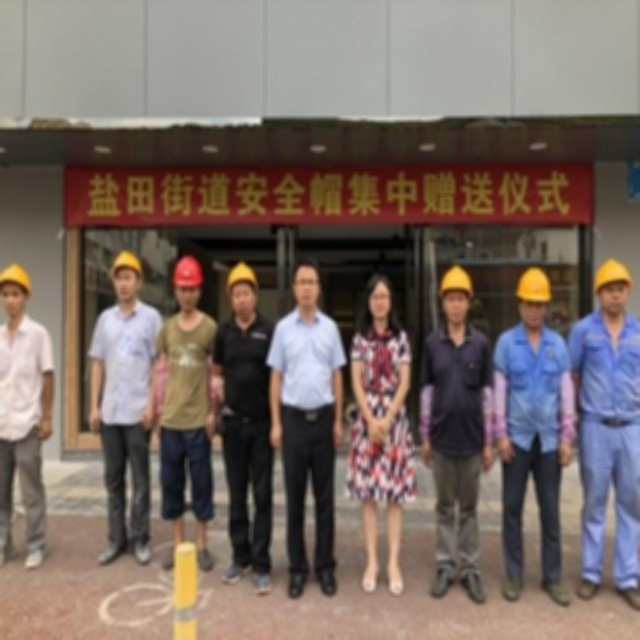Con_Casco: (438, 265, 475, 324)
Sin_Casco_Mascarrilla: (290, 260, 321, 312)
Sin_Chaleco: (423, 321, 493, 441), (272, 312, 343, 412), (349, 317, 413, 421)
